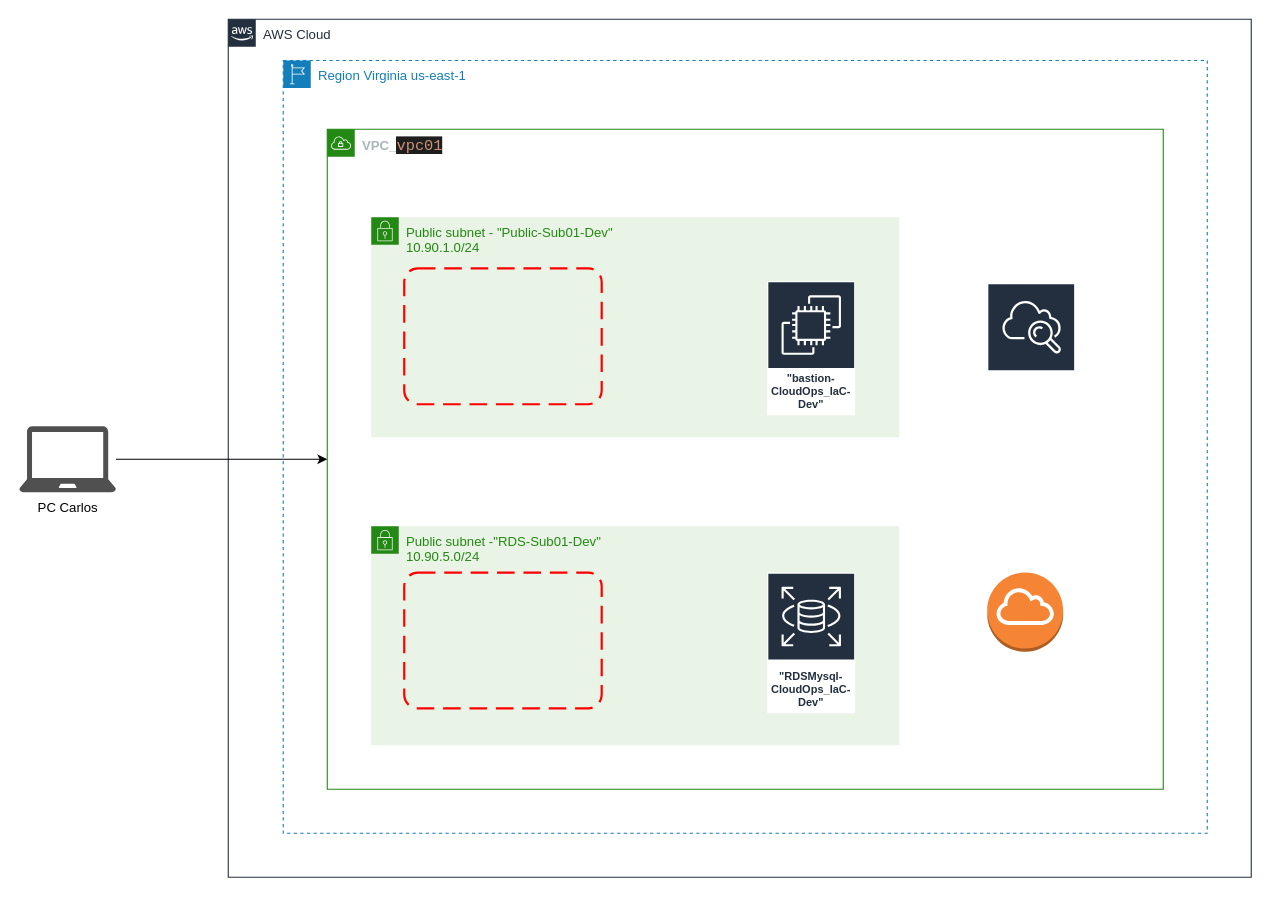
The diagram is 1271 pixels wide and 897 high, and some of its shapes have lost their labels. The centre of each missing label's shape, as x and y in pixels:
"EC2 Dashboard": point 1030,343
"Sgr-Public-CloudOps_IaC-Dev": point 502,336
"Sgr-RDS-CloudOps_IaC-Dev": point 502,640
igw01: point 1024,611
